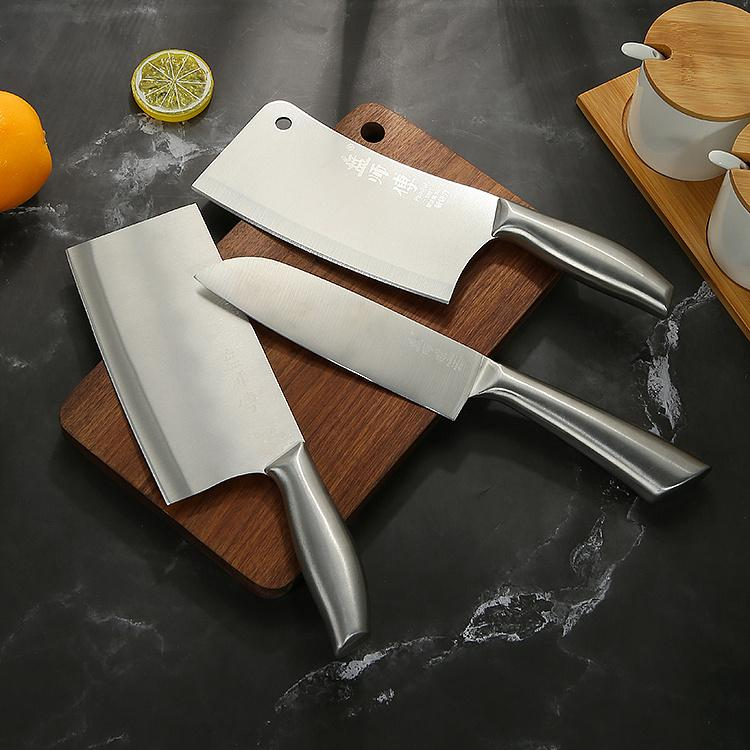knife: (31, 96, 703, 659)
